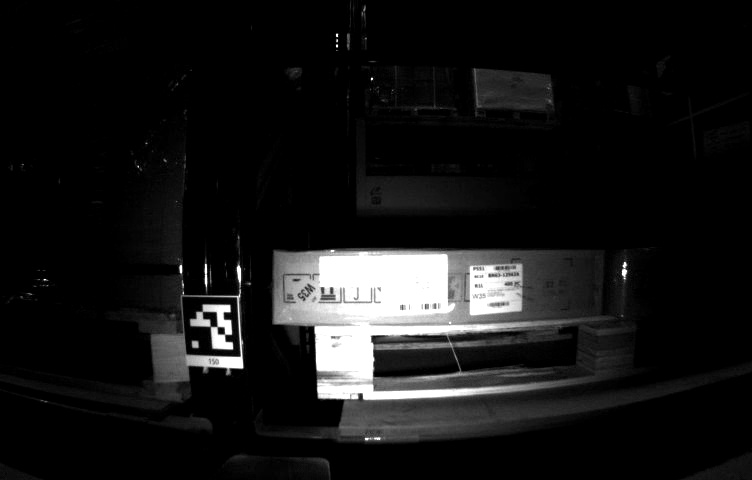True Barcode: (468, 265, 520, 313)
